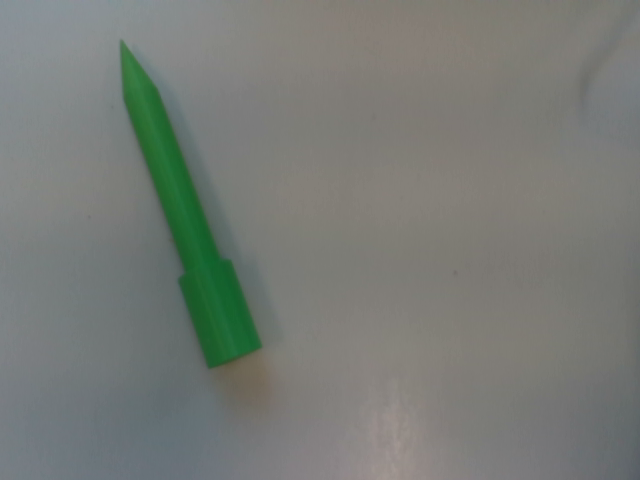Probe: (115, 32, 267, 377)
